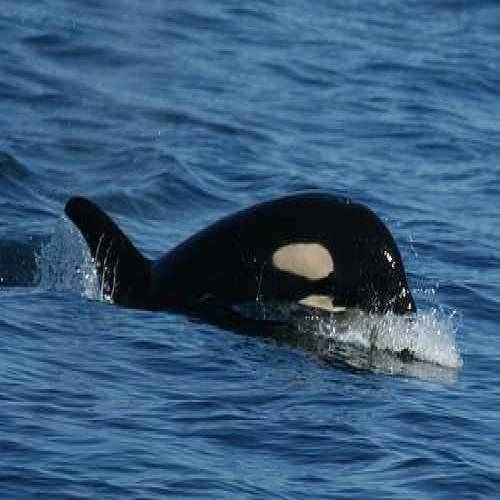killer_whale-endangered: (60, 152, 422, 394)
